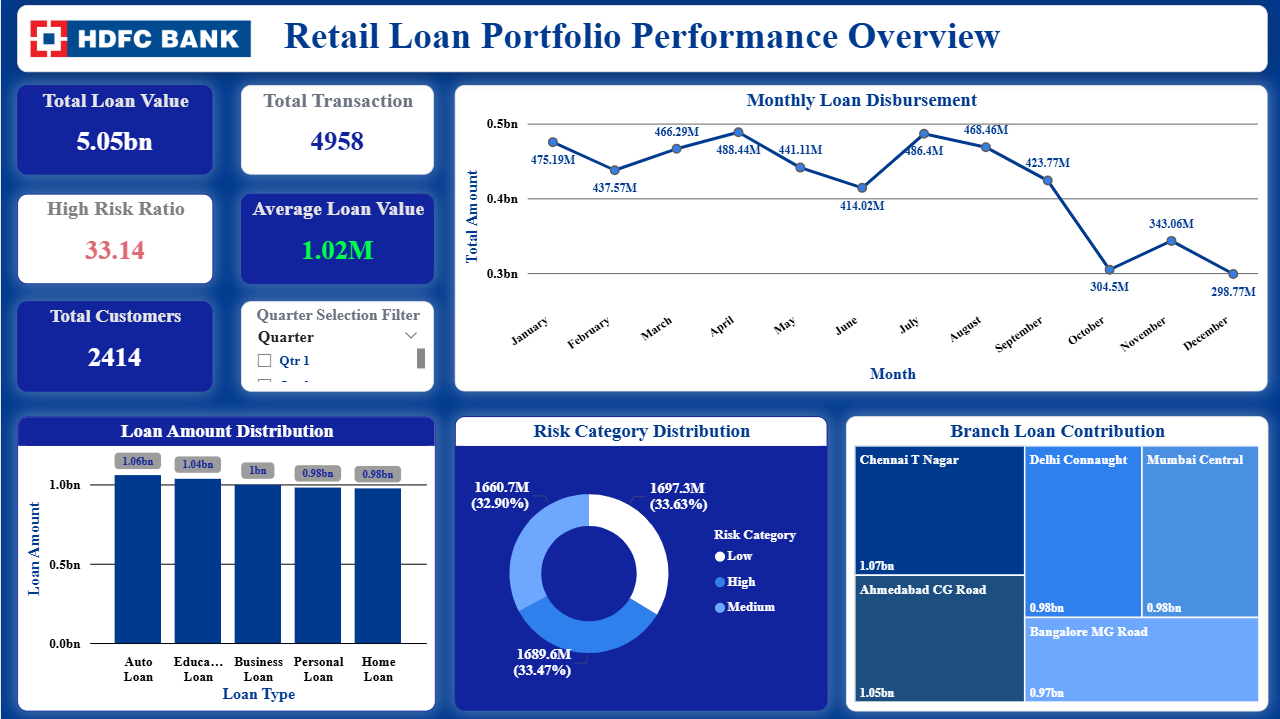

What the dashboard file says about the page in this screenshot:
{"tool":"powerbi","page":{"name":"Loan Portfolio Overview","canvas":[1280,720],"ordinal":0},"visuals":[{"type":"card","title":"Total Loan Value","fields":{"Values":["Dim_Risk.Total Amount"]},"box":[16.4,85,195,89.3],"z":0},{"type":"card","title":"Total Transaction","fields":{"Values":["Fact_Transactions.Total Transaction"]},"box":[240,85,192.9,89.3],"z":1000},{"type":"card","title":"High Risk Ratio","fields":{"Values":["Dim_Branch.High Risk %"]},"box":[15.7,194.3,195.7,90],"z":2000},{"type":"card","title":"Average Loan Value","fields":{"Values":["Dim_Branch.Average Transaction Value"]},"box":[240,194.3,192.9,90],"z":3000},{"type":"lineChart","title":"Monthly Loan Disbursement","fields":{"Category":["Date Table.Date.Variation.Date Hierarchy.Month"],"Y":["Dim_Risk.Total Amount"]},"box":[453.8,85,812.5,306.2],"z":4000},{"type":"card","title":"Total Customers","fields":{"Values":["Date Table.Total Custome"]},"box":[16.4,301.4,195,90],"z":5000},{"type":"textbox","box":[15.6,4.4,1250.6,67.5],"z":6000},{"type":"clusteredColumnChart","title":"Loan Amount Distribution","fields":{"Category":["Dim_Risk.Loan Type"],"Y":["Sum(Dim_Risk.Loan Amount)"]},"box":[15.7,416.2,418.6,295.6],"z":7000},{"type":"donutChart","title":"Risk Category Distribution","fields":{"Category":["Dim_Risk.Risk Category"],"Y":["Sum(Dim_Risk.Loan Amount)"]},"box":[453.6,416.2,372.8,294.4],"z":8000},{"type":"treemap","title":"Branch Loan Contribution","fields":{"Group":["Dim_Branch.Branch Name"],"Values":["Dim_Risk.Total Amount"]},"box":[845,416,422,295],"z":9000},{"type":"slicer","title":"Quarter Selection Filter","fields":{"Values":["Date Table.Date.Variation.Date Hierarchy.Quarter"]},"box":[240,301.4,192.9,90],"z":10000},{"type":"image","box":[28.8,12.5,221.2,52.5],"z":10001}]}

Visuals, with their boxes in screenshot pixels (x1, y1, x2, y2), scaled from the page's 1280x720 canvas onto the 1280x719 screenshot:
"Total Loan Value" card: pyautogui.locateOnScreen(16, 85, 211, 174)
"Total Transaction" card: pyautogui.locateOnScreen(240, 85, 433, 174)
"High Risk Ratio" card: pyautogui.locateOnScreen(16, 194, 211, 284)
"Average Loan Value" card: pyautogui.locateOnScreen(240, 194, 433, 284)
"Monthly Loan Disbursement" lineChart: pyautogui.locateOnScreen(454, 85, 1266, 391)
"Total Customers" card: pyautogui.locateOnScreen(16, 301, 211, 391)
textbox: pyautogui.locateOnScreen(16, 4, 1266, 72)
"Loan Amount Distribution" clusteredColumnChart: pyautogui.locateOnScreen(16, 416, 434, 711)
"Risk Category Distribution" donutChart: pyautogui.locateOnScreen(454, 416, 826, 710)
"Branch Loan Contribution" treemap: pyautogui.locateOnScreen(845, 415, 1267, 710)
"Quarter Selection Filter" slicer: pyautogui.locateOnScreen(240, 301, 433, 391)
image: pyautogui.locateOnScreen(29, 12, 250, 65)
